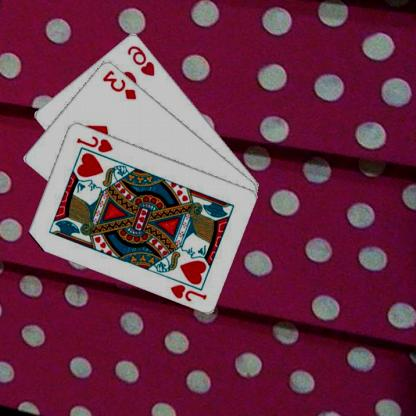3D: (102, 67, 140, 100)
6H: (127, 42, 158, 78)
JH: (76, 133, 116, 153), (170, 282, 209, 302)
